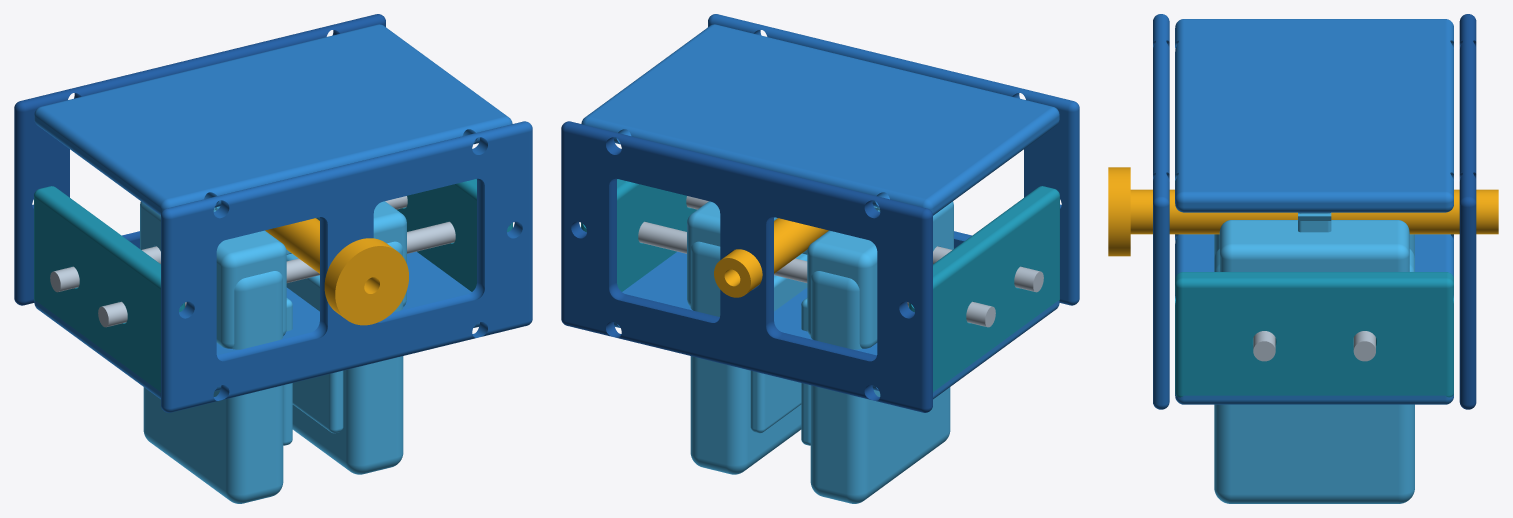
Rendered from HR30_G01_manual_fit_article_closed_candidate.glb.
3 views of the same model, side by side, from view 1: azimuth 30°, elevation 25°; view 2: azimuth 150°, elevation 25°; view 3: azimuth 270°, elevation 25° (orthographic). The views are drawn at different scales.
Parts seen in each view (by area): view 1: FFA_FRAME_FRONT, FFA_TOP_BRIDGE, FFA_FINGER_RACK_NEGATIVE, FFA_END_NEGATIVE, FFA_FINGER_RACK_POSITIVE, FFA_FRAME_REAR, FFA_MANUAL_PINION, FFA_END_POSITIVE, FFA_BOTTOM_BRIDGE, FFA_GUIDE_FRONT, FFA_GUIDE_REAR; view 2: FFA_FRAME_REAR, FFA_TOP_BRIDGE, FFA_FINGER_RACK_NEGATIVE, FFA_END_NEGATIVE, FFA_FINGER_RACK_POSITIVE, FFA_FRAME_FRONT, FFA_END_POSITIVE, FFA_BOTTOM_BRIDGE, FFA_MANUAL_PINION, FFA_GUIDE_REAR, FFA_GUIDE_FRONT; view 3: FFA_TOP_BRIDGE, FFA_END_POSITIVE, FFA_FINGER_RACK_POSITIVE, FFA_MANUAL_PINION, FFA_FRAME_REAR, FFA_FRAME_FRONT, FFA_BOTTOM_BRIDGE, FFA_GUIDE_FRONT, FFA_GUIDE_REAR.
Boxes of the visible parts, x1,y1,x2,y2 form: FFA_FRAME_FRONT: (161,121,532,412); FFA_TOP_BRIDGE: (34,24,512,215); FFA_FINGER_RACK_NEGATIVE: (140,201,292,503); FFA_END_NEGATIVE: (34,186,184,392); FFA_FINGER_RACK_POSITIVE: (213,201,406,474); FFA_FRAME_REAR: (14,14,385,305); FFA_MANUAL_PINION: (265,218,408,325); FFA_END_POSITIVE: (397,179,512,291); FFA_BOTTOM_BRIDGE: (34,251,479,399); FFA_GUIDE_FRONT: (98,221,455,327); FFA_GUIDE_REAR: (50,196,407,292); FFA_FRAME_REAR: (561,121,932,412); FFA_TOP_BRIDGE: (581,24,1059,215); FFA_FINGER_RACK_NEGATIVE: (801,201,953,503); FFA_END_NEGATIVE: (909,186,1059,392); FFA_FINGER_RACK_POSITIVE: (687,201,880,474); FFA_FRAME_FRONT: (708,14,1079,305); FFA_END_POSITIVE: (581,179,696,291); FFA_BOTTOM_BRIDGE: (614,251,1059,399); FFA_MANUAL_PINION: (714,218,828,297); FFA_GUIDE_REAR: (638,221,995,327); FFA_GUIDE_FRONT: (686,196,1043,292); FFA_TOP_BRIDGE: (1175,19,1453,212); FFA_END_POSITIVE: (1175,272,1453,397); FFA_FINGER_RACK_POSITIVE: (1214,212,1414,503); FFA_MANUAL_PINION: (1108,167,1498,256); FFA_FRAME_REAR: (1459,14,1476,409); FFA_FRAME_FRONT: (1153,14,1169,409); FFA_BOTTOM_BRIDGE: (1175,234,1453,404); FFA_GUIDE_FRONT: (1253,331,1275,361); FFA_GUIDE_REAR: (1353,331,1375,361).
Size of the model in its own units: 84 by 71 by 70.
